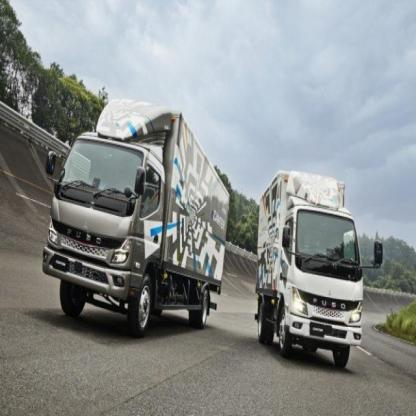truck: (41, 97, 231, 339), (252, 166, 384, 369)
